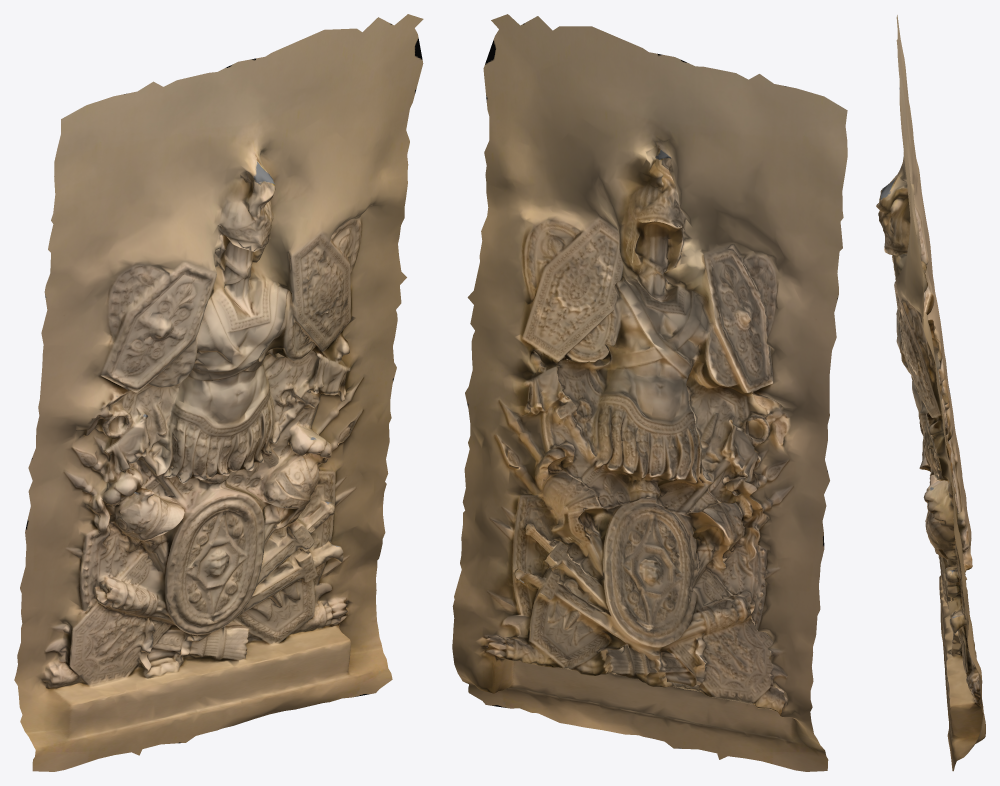
The model's file is hermitage.fbx.
3 renders of one model, left to right at view 1: azimuth 30°, elevation 25°; view 2: azimuth 150°, elevation 25°; view 3: azimuth 270°, elevation 25°, orthographic. The views are drawn at different scales.
Visible parts, largest first — view 1: mainMeshNode; view 2: mainMeshNode; view 3: mainMeshNode.
Boxes of the visible parts, left/top/right/bottom form: mainMeshNode: left=14, top=14, right=423, bottom=771; mainMeshNode: left=452, top=14, right=847, bottom=771; mainMeshNode: left=876, top=15, right=985, bottom=771.
Size of the model in its own units: 24.27 by 43.3 by 6.85.
1 material, 1 textured.
